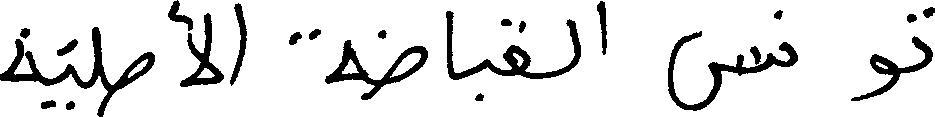X: (668, 7, 776, 115), (290, 24, 363, 104), (169, 0, 222, 91), (378, 25, 426, 95), (39, 34, 74, 114), (853, 49, 897, 105), (0, 23, 37, 86), (908, 2, 934, 77), (502, 14, 530, 83), (231, 0, 245, 90), (778, 5, 797, 71), (124, 47, 152, 91), (566, 14, 580, 76), (476, 54, 492, 105), (93, 22, 100, 116), (445, 6, 453, 84), (597, 0, 605, 59)
